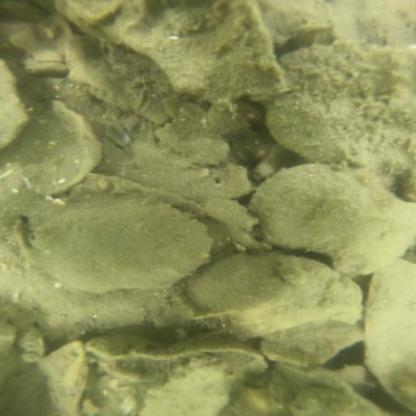3: (78, 332, 265, 384)
Oyster-Closed: (46, 0, 290, 105), (263, 36, 416, 196), (247, 159, 415, 276), (29, 199, 210, 297), (218, 256, 370, 339), (361, 257, 416, 413)
Oyster-Open: (11, 99, 94, 199), (0, 335, 96, 416), (189, 252, 297, 318), (130, 357, 235, 416), (0, 59, 33, 156)
